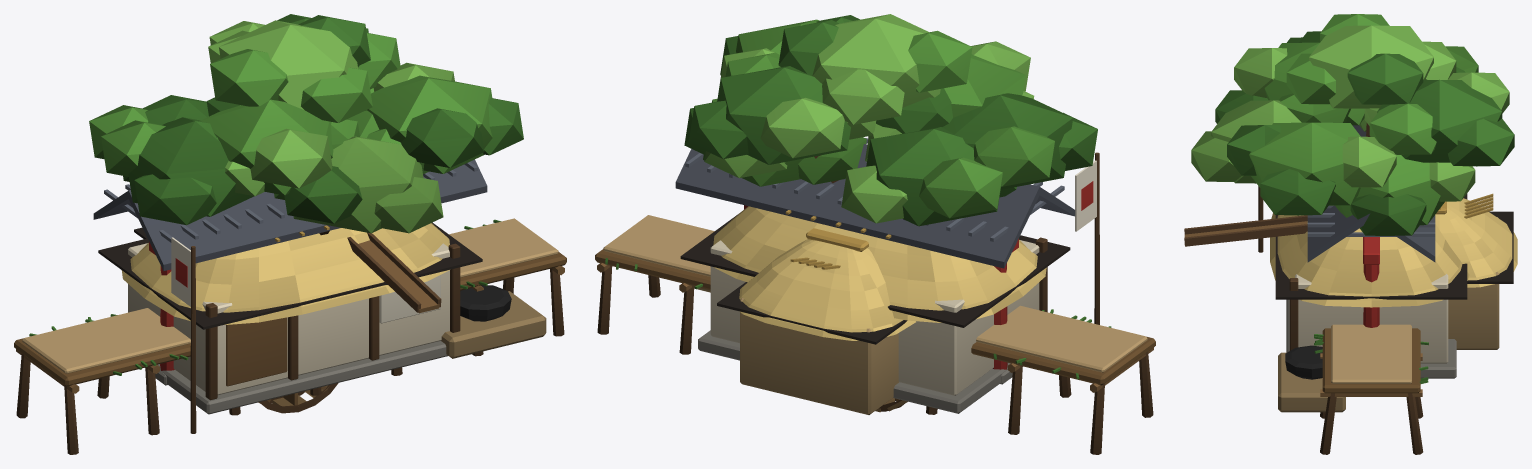
The model's file is farmset.glb.
The picture shows the model from 3 angles, left to right: view 1: azimuth 30°, elevation 25°; view 2: azimuth 150°, elevation 25°; view 3: azimuth 270°, elevation 25°; orthographic projection. The views are drawn at different scales.
Parts seen in each view (by area): view 1: jeongja_leaf, jumak, seopdari, sammun, mulle_house, mulle_wheel; view 2: jeongja_leaf, jumak, mulle_house, seopdari, sammun; view 3: jeongja_leaf, jumak, mulle_house, seopdari, sammun.
Part boxes in pixels (left/top/right/bottom): jeongja_leaf: left=89, top=14, right=523, bottom=233; jumak: left=98, top=222, right=546, bottom=433; seopdari: left=14, top=218, right=566, bottom=454; sammun: left=93, top=159, right=487, bottom=385; mulle_house: left=134, top=227, right=441, bottom=313; mulle_wheel: left=258, top=383, right=338, bottom=413; jeongja_leaf: left=684, top=14, right=1097, bottom=226; jumak: left=680, top=152, right=1099, bottom=413; mulle_house: left=717, top=228, right=915, bottom=414; seopdari: left=595, top=215, right=1155, bottom=454; sammun: left=675, top=138, right=1075, bottom=384; jeongja_leaf: left=1191, top=14, right=1514, bottom=235; jumak: left=1258, top=186, right=1469, bottom=412; mulle_house: left=1184, top=193, right=1517, bottom=349; seopdari: left=1314, top=324, right=1428, bottom=454; sammun: left=1307, top=125, right=1435, bottom=327.
Size of the model in its own units: 12.4 by 9 by 7.83.
